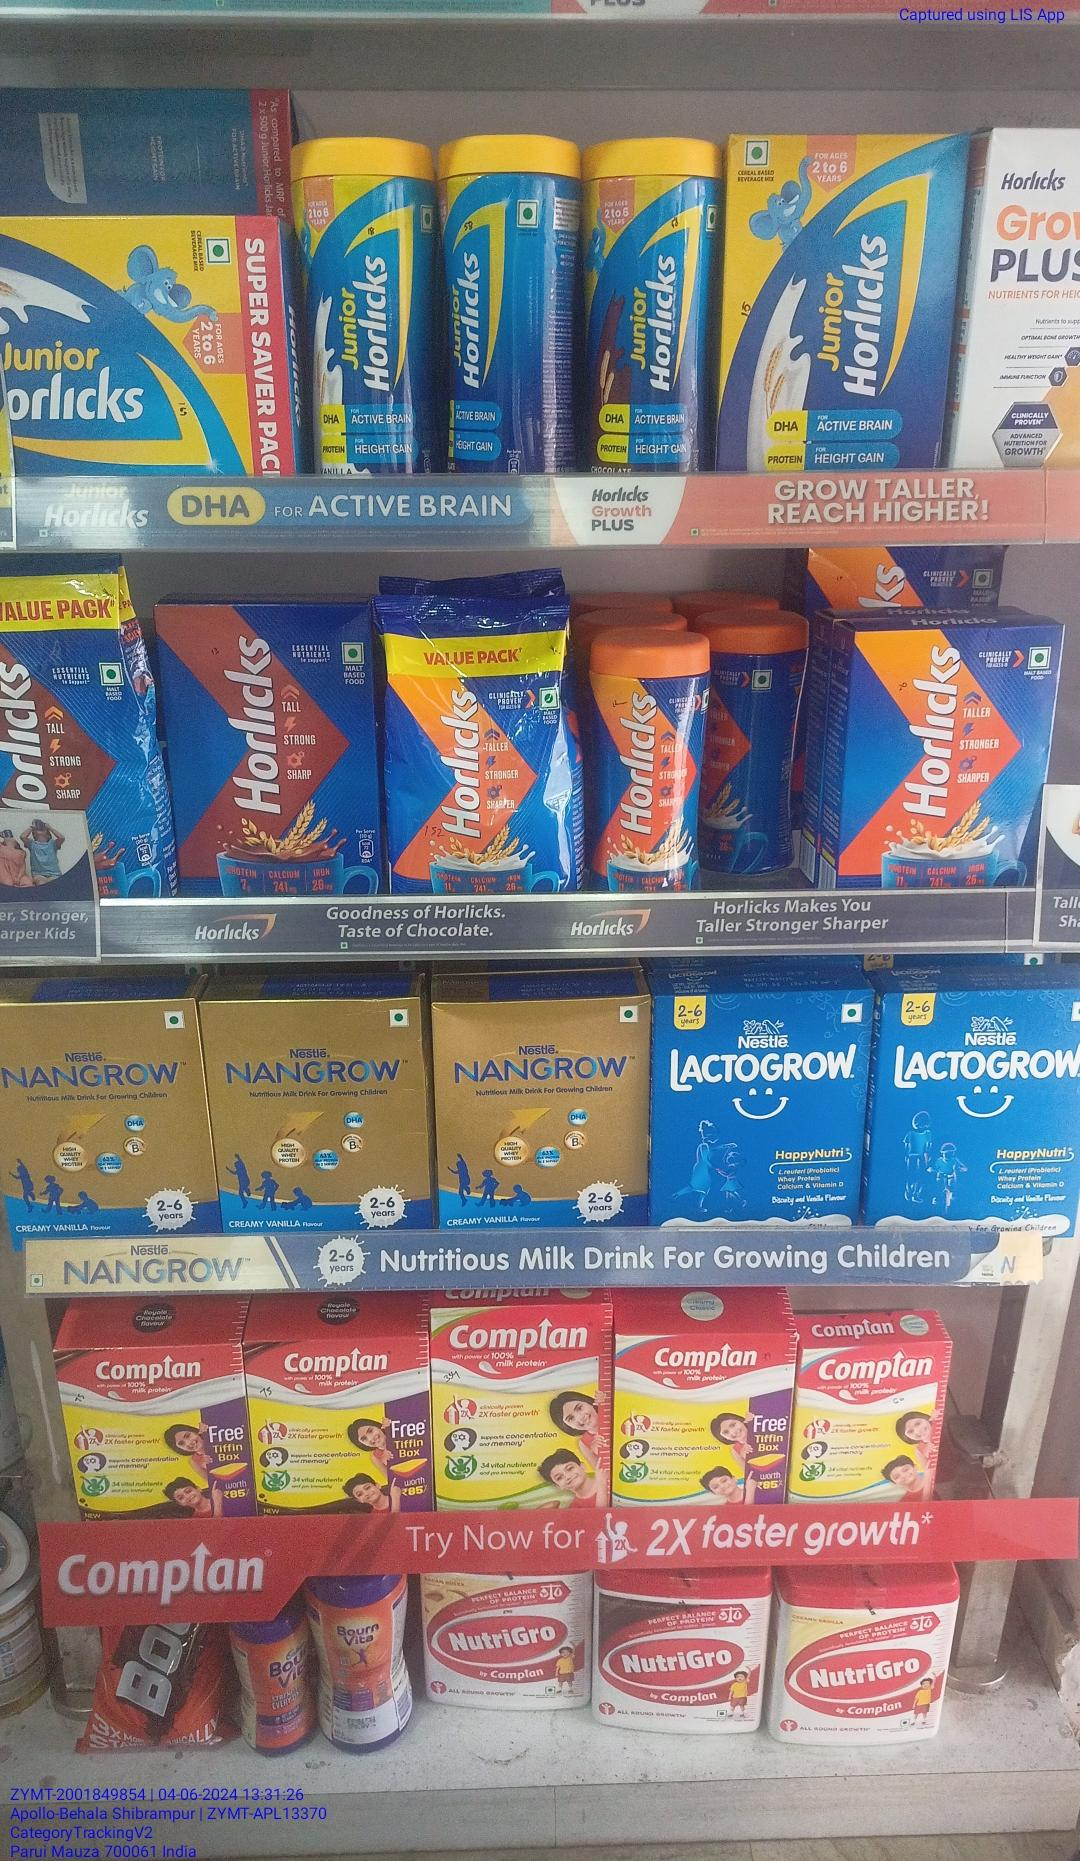BOURN_VITA_200_G_JAR: (230, 1622, 312, 1754)
COMPLAN_CHOCOLATE_500_GMS_PACK: (62, 1347, 247, 1518), (255, 1342, 426, 1517)
COMPLAN_CREAMY_CLASSIC_500_G_PACK: (616, 1333, 791, 1504), (801, 1342, 932, 1518)
COMPLAN_PISTA_BADAM_500_GMS_PACK: (436, 1307, 609, 1513)
HORLICKS_JUNIOR_VANILLA_500_GM_JAR: (297, 139, 432, 477), (440, 143, 576, 472)
HORLICK_CHOCOLATE_500_G_PACK: (170, 607, 374, 901)
HORLICK_CLASSIC_MALT_500_G_JAR: (591, 630, 706, 897)
HORLICK_CLASSIC_MALT_500_G_PACK: (838, 625, 1057, 892)
HORLICK_CLASSIC_MALT_750_G_POUCH: (383, 604, 582, 896)
